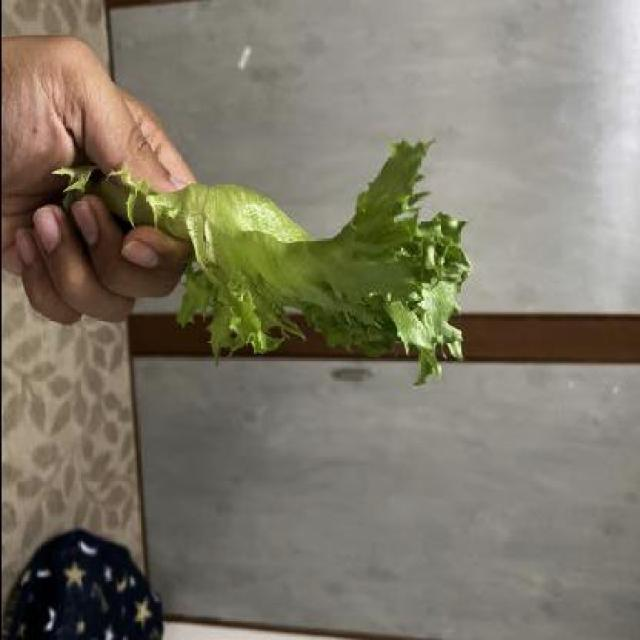Lettuce: (147, 138, 475, 368)
